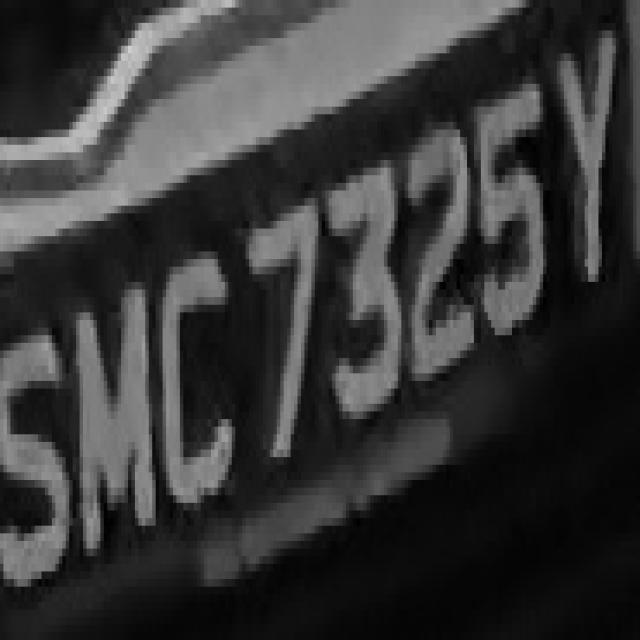2: (398, 122, 491, 396)
3: (315, 145, 401, 442)
5: (464, 69, 550, 358)
7: (235, 182, 325, 488)
C: (156, 236, 235, 526)
M: (69, 266, 163, 572)
S: (4, 282, 76, 617)
Y: (546, 0, 630, 290)
